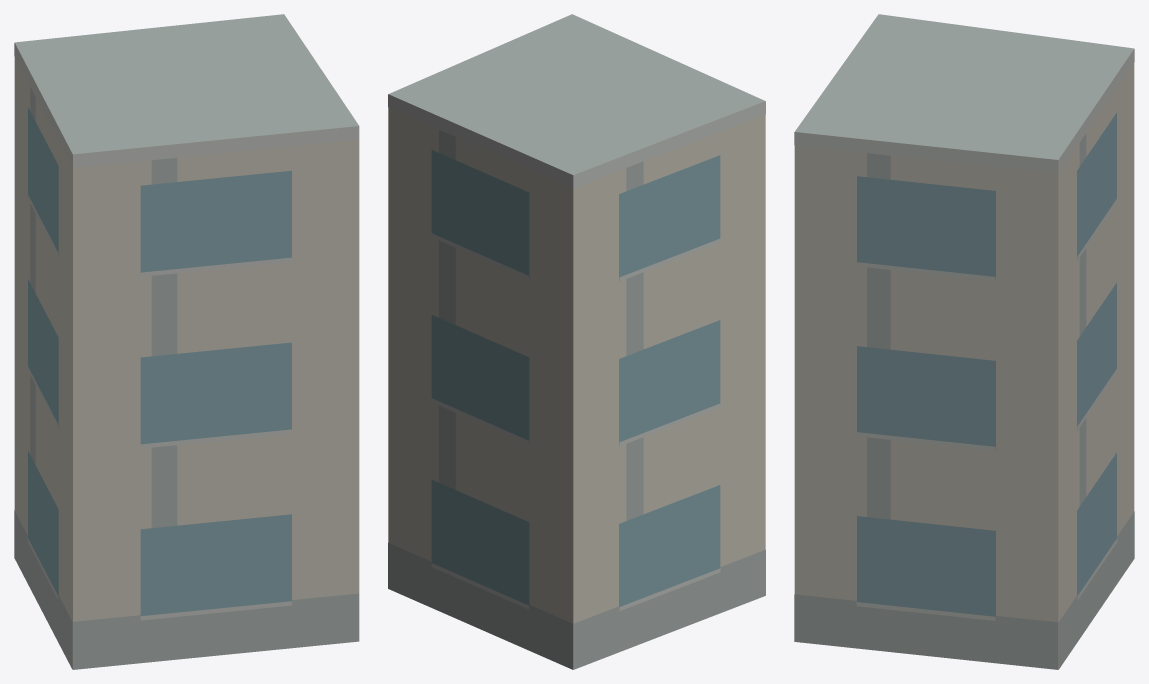
The model's file is survey-upis-32646380.glb.
3 views of the same model, side by side, from view 1: azimuth 30°, elevation 25°; view 2: azimuth 150°, elevation 25°; view 3: azimuth 270°, elevation 25° (orthographic). The views are drawn at different scales.
Visible parts, largest first — view 1: survey-upis-32646380.tmp; view 2: survey-upis-32646380.tmp; view 3: survey-upis-32646380.tmp.
Part boxes in pixels (box(x1,y1,x2,y2)): survey-upis-32646380.tmp: box(14, 14, 359, 669); survey-upis-32646380.tmp: box(388, 14, 765, 669); survey-upis-32646380.tmp: box(794, 14, 1134, 669).
Bounding box in the file's own units: 5.63 × 9.15 × 5.54.
